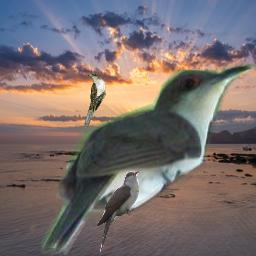Cuckoo: (41, 63, 256, 256), (96, 171, 139, 254), (84, 73, 106, 128)
